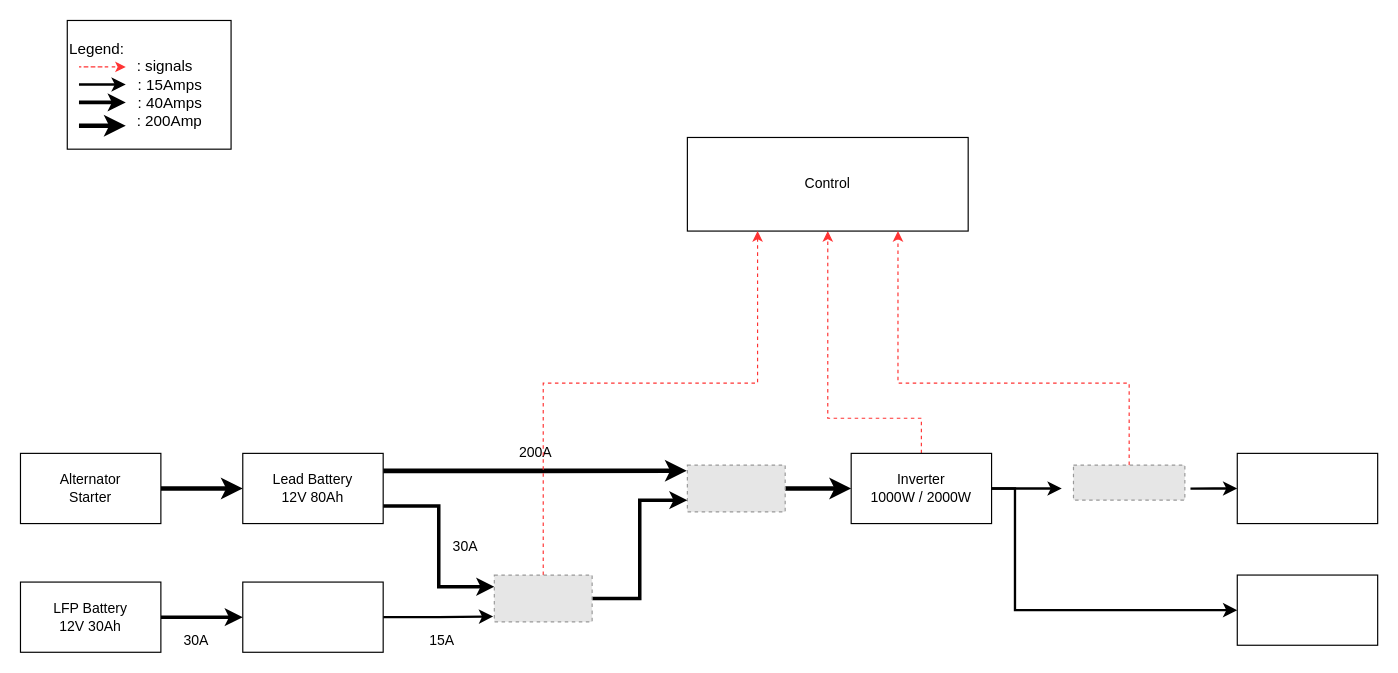
Some shapes in this 1398 by 673 pixel diagram are drawn without their labels. Grey dashed boxes stand in for pictures. Each missing label, with the box of its shape:
230VAC Outlet: (1236, 574, 1378, 645)
Fridge Motor: (1236, 452, 1378, 524)
MPTT Controller: (242, 581, 383, 652)
